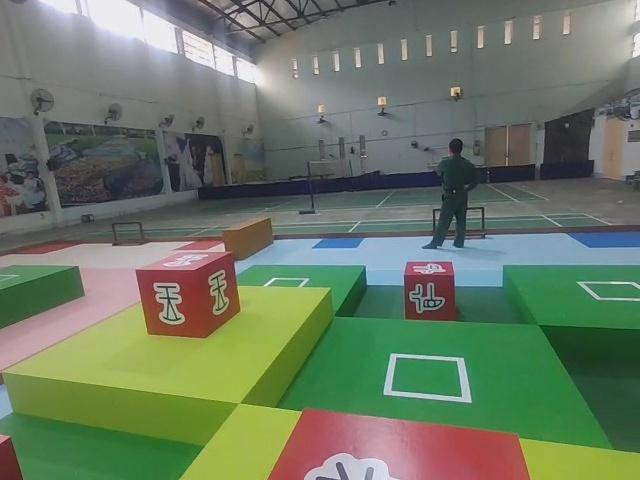R2 Real: (132, 248, 243, 343), (399, 258, 459, 327)
